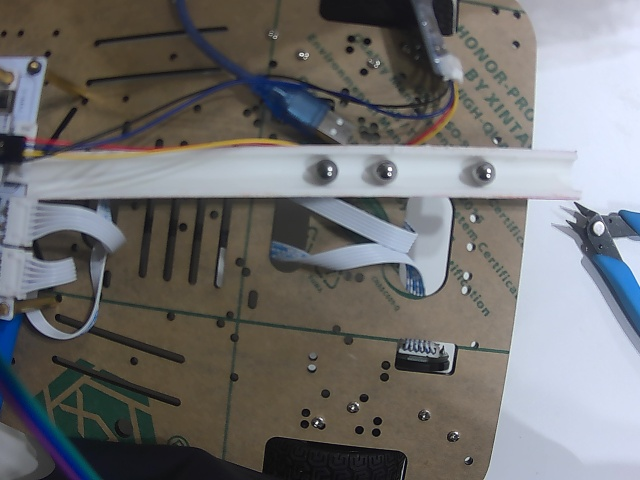steelball: (471, 162, 496, 186), (374, 160, 398, 184), (314, 159, 338, 182)
